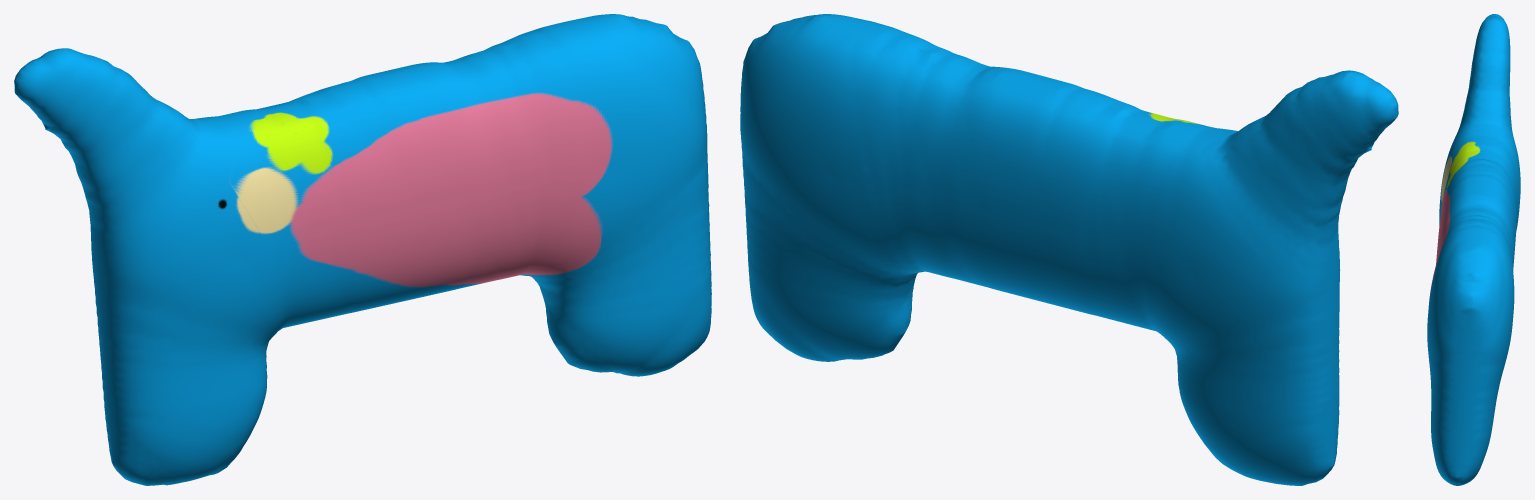
The picture shows the model from 3 angles, left to right: view 1: azimuth 30°, elevation 25°; view 2: azimuth 150°, elevation 25°; view 3: azimuth 270°, elevation 25°; orthographic projection. The views are drawn at different scales.
Visible parts, largest first — view 1: mesh_id46; view 2: mesh_id46; view 3: mesh_id46.
Part boxes in pixels (x1,y1,x2,y2): mesh_id46: (14,14,711,485); mesh_id46: (740,14,1398,485); mesh_id46: (1427,14,1520,485).
Size of the model in its own units: 0.4245 by 0.2693 by 0.0795.
Materials: 1 (1 with a texture image).
